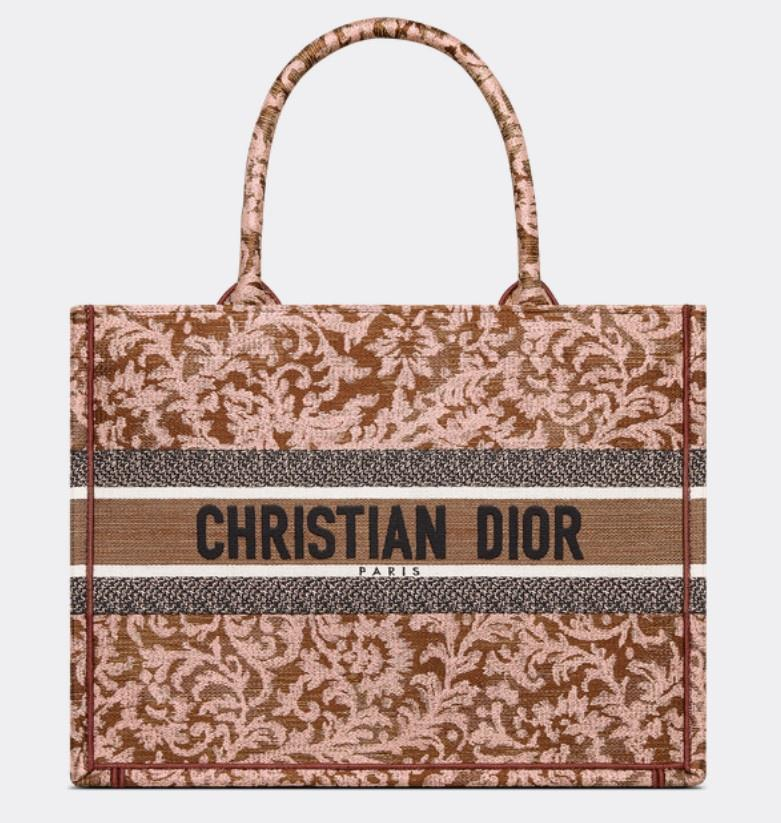DIOR: (176, 483, 615, 589)
